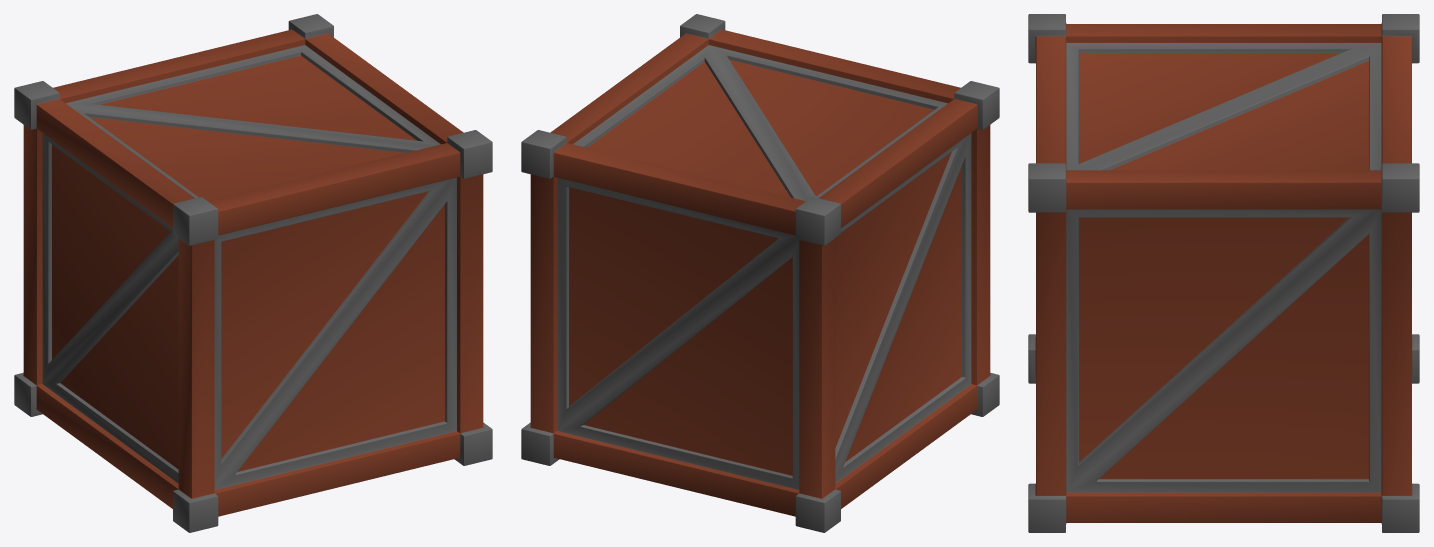
The picture shows the model from 3 angles, left to right: view 1: azimuth 30°, elevation 25°; view 2: azimuth 150°, elevation 25°; view 3: azimuth 270°, elevation 25°; orthographic projection. The views are drawn at different scales.
Visible parts, largest first — view 1: Props_Box; view 2: Props_Box; view 3: Props_Box.
Part boxes in pixels (x1,y1,x2,y2): Props_Box: (14,14,492,532); Props_Box: (521,14,999,532); Props_Box: (1028,14,1419,532).
Size of the model in its own units: 1.56 by 1.56 by 1.56.
